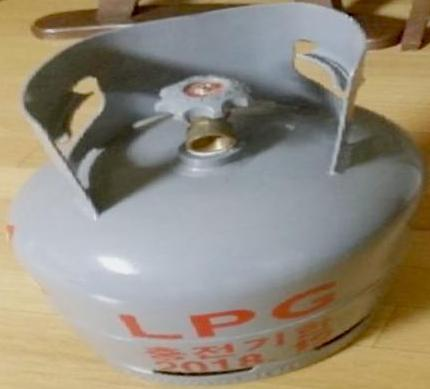cylinder: (1, 0, 430, 389)
